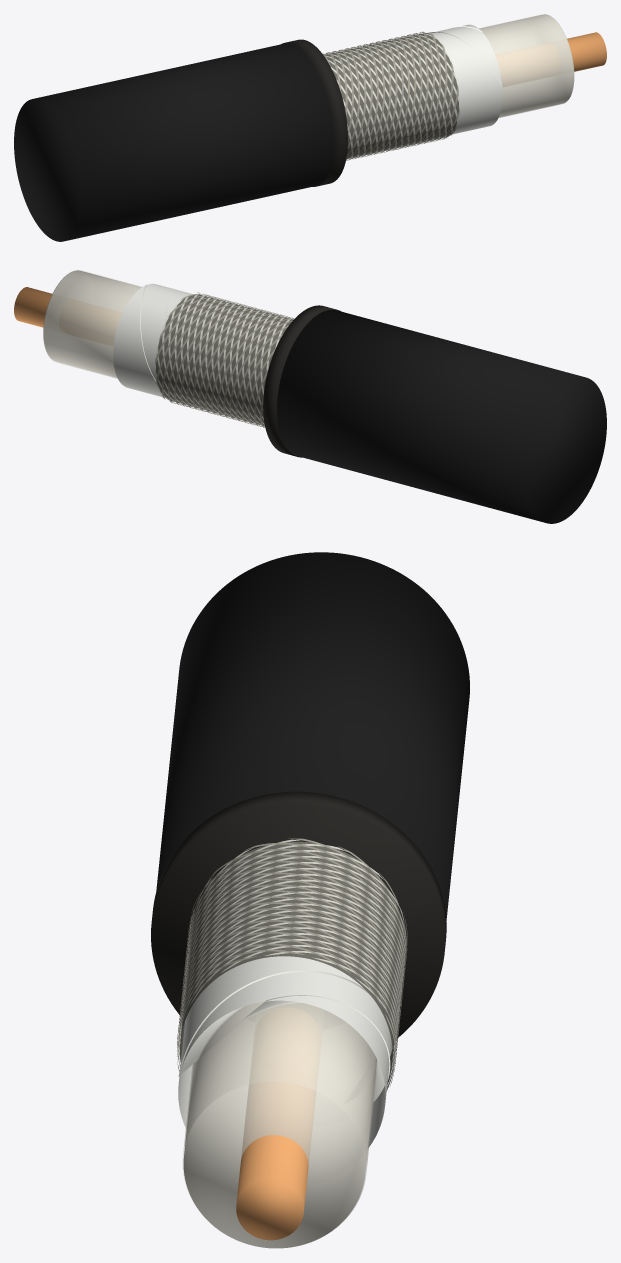
Rendered from rf-lmr240.glb.
The picture shows the model from 3 angles, top to bottom: view 1: azimuth 30°, elevation 25°; view 2: azimuth 150°, elevation 25°; view 3: azimuth 270°, elevation 25°; orthographic projection. The views are drawn at different scales.
Visible parts, largest first — view 1: matte black pvc jacket body, braid dark diamond recess, gas injected foam dielectric, smooth dielectric skin, duobond foil sleeve, jacket cut lip, solid center conductor continuous, braid left hand woven carrier 13, braid left hand woven carrier 12, braid left hand woven carrier 14, braid left hand woven carrier 11, braid left hand woven carrier 01 (+9 smaller); view 2: matte black pvc jacket body, braid dark diamond recess, gas injected foam dielectric, smooth dielectric skin, duobond foil sleeve, jacket cut lip, solid center conductor continuous, braid left hand woven carrier 08, braid left hand woven carrier 07, braid left hand woven carrier 09, braid left hand woven carrier 10, braid left hand woven carrier 06 (+5 smaller); view 3: matte black pvc jacket body, gas injected foam dielectric, jacket cut lip, braid dark diamond recess, smooth dielectric skin, duobond foil sleeve, solid center conductor continuous, subtle foil wrap lap, braid left hand woven carrier 09, braid left hand woven carrier 10, braid left hand woven carrier 08, braid left hand woven carrier 11 (+2 smaller).
Part boxes in pixels (x1,y1,x2,y2): matte black pvc jacket body: (14, 43, 334, 241); braid dark diamond recess: (325, 33, 458, 158); gas injected foam dielectric: (479, 14, 574, 117); smooth dielectric skin: (479, 14, 573, 117); duobond foil sleeve: (428, 24, 502, 134); jacket cut lip: (281, 39, 347, 186); solid center conductor continuous: (567, 32, 606, 71); braid left hand woven carrier 13: (345, 43, 447, 148); braid left hand woven carrier 12: (339, 33, 441, 148); braid left hand woven carrier 14: (347, 46, 453, 155); braid left hand woven carrier 11: (332, 31, 434, 149); braid left hand woven carrier 01: (346, 45, 458, 159); matte black pvc jacket body: (277, 309, 606, 523); braid dark diamond recess: (156, 294, 293, 426); gas injected foam dielectric: (43, 270, 141, 377); smooth dielectric skin: (44, 270, 141, 378); duobond foil sleeve: (113, 283, 192, 397); jacket cut lip: (263, 305, 341, 457); solid center conductor continuous: (14, 287, 52, 327); braid left hand woven carrier 08: (156, 300, 282, 423); braid left hand woven carrier 07: (162, 302, 275, 425); braid left hand woven carrier 09: (155, 299, 288, 421); braid left hand woven carrier 10: (158, 297, 292, 420); braid left hand woven carrier 06: (168, 304, 268, 426); matte black pvc jacket body: (156, 552, 469, 920); gas injected foam dielectric: (183, 1002, 376, 1248); jacket cut lip: (151, 791, 446, 1039); braid dark diamond recess: (180, 841, 404, 1083); smooth dielectric skin: (183, 1002, 377, 1237); duobond foil sleeve: (178, 956, 391, 1147); solid center conductor continuous: (236, 1081, 315, 1240); subtle foil wrap lap: (178, 970, 392, 1102); braid left hand woven carrier 09: (180, 848, 404, 1050); braid left hand woven carrier 10: (180, 854, 403, 1029); braid left hand woven carrier 08: (181, 842, 404, 1085); braid left hand woven carrier 11: (179, 860, 403, 1035).
Size of the model in its own units: 6.53 by 1.54 by 1.67.
